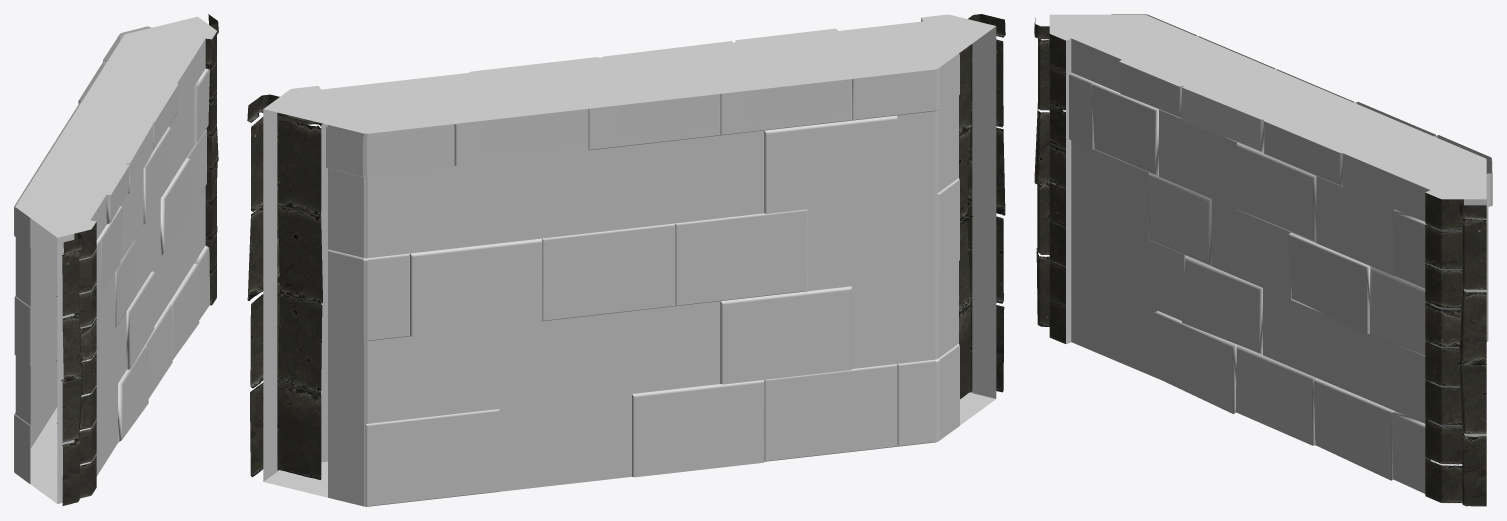
3 renders of one model, left to right at view 1: azimuth 30°, elevation 25°; view 2: azimuth 150°, elevation 25°; view 3: azimuth 270°, elevation 25°, orthographic. The views are drawn at different scales.
Visible parts, largest first — view 1: SM_Greathall_Wall_45_8x6_01_LOD0; view 2: SM_Greathall_Wall_45_8x6_01_LOD0; view 3: SM_Greathall_Wall_45_8x6_01_LOD0.
Boxes of the visible parts, bbox=[...] form: SM_Greathall_Wall_45_8x6_01_LOD0: bbox=[14, 14, 218, 505]; SM_Greathall_Wall_45_8x6_01_LOD0: bbox=[247, 14, 1005, 506]; SM_Greathall_Wall_45_8x6_01_LOD0: bbox=[1034, 14, 1492, 506].
Size of the model in its own units: 8.12 by 6 by 8.2.
Materials: 2 (1 with a texture image).
